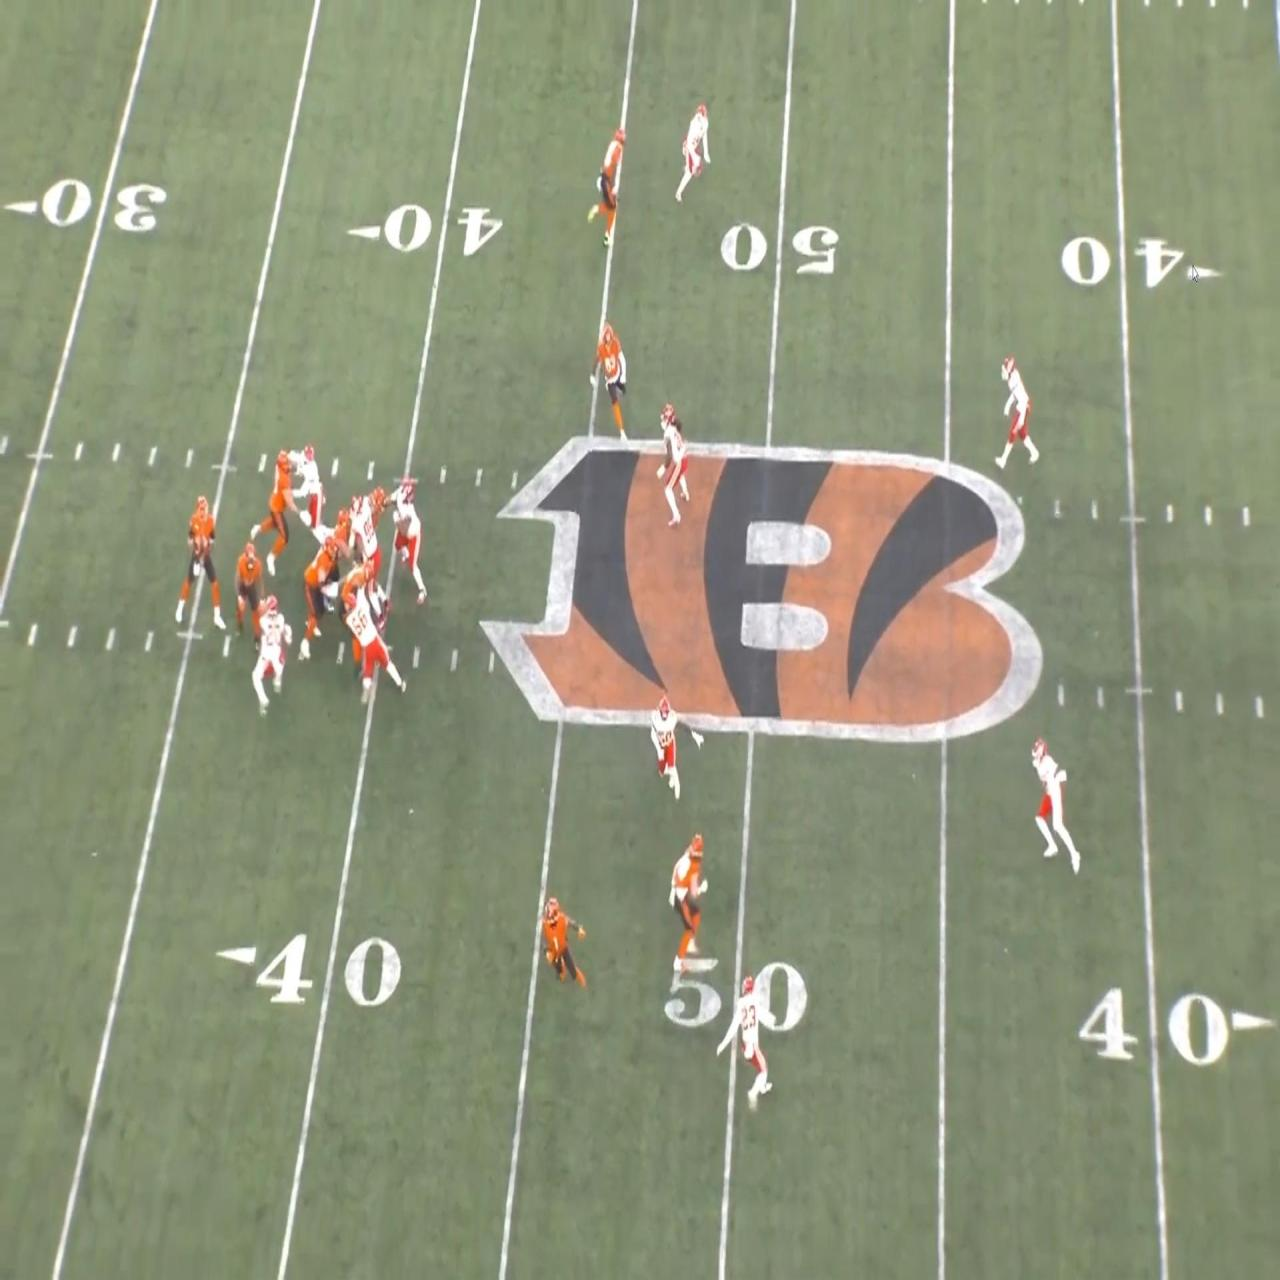30L: (0, 178, 166, 232)
40L: (217, 932, 402, 1007), (348, 203, 504, 257)
40R: (1080, 983, 1275, 1061), (1061, 237, 1223, 291)
50: (663, 954, 808, 1034), (720, 222, 839, 277)
